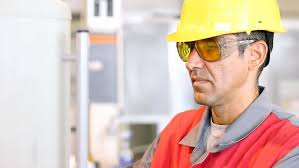Person_wearing_helmet: (164, 0, 291, 71)
